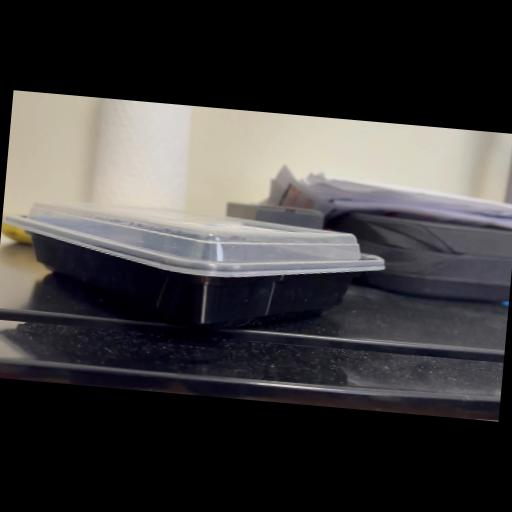rigid_plastic_container: (1, 194, 388, 341)
